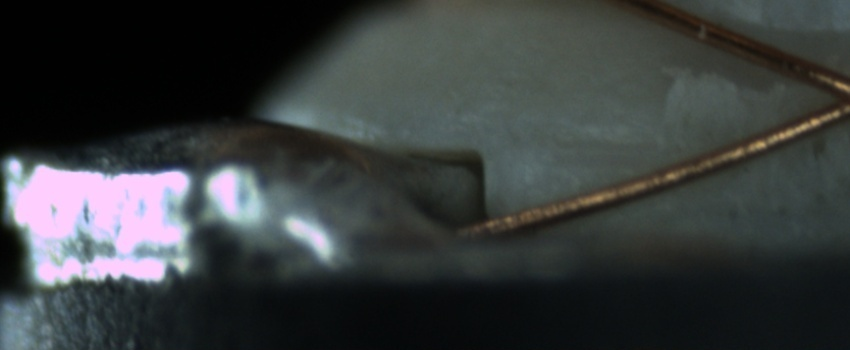CL: (797, 61, 850, 133)
DL: (526, 111, 666, 180)
